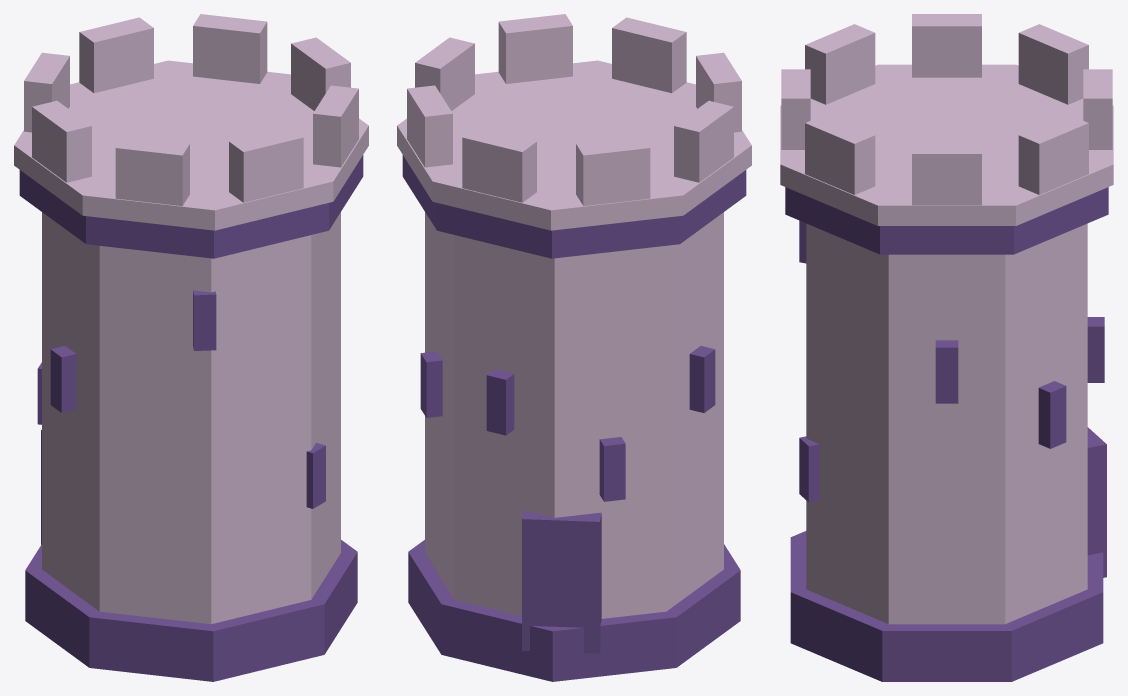
The model's file is tower.glb.
3 renders of one model, left to right at view 1: azimuth 30°, elevation 25°; view 2: azimuth 150°, elevation 25°; view 3: azimuth 270°, elevation 25°, orthographic.
Parts seen in each view (by area): view 1: Keep, Walk, Plinth, Corbel, Merlon7, Merlon0, Merlon3, Merlon4, Merlon6, Merlon1, Merlon2, Merlon5 (+3 smaller); view 2: Keep, Walk, Plinth, Door, Corbel, Merlon5, Merlon0, Merlon1, Merlon4, Merlon6, Merlon3, Merlon2 (+5 smaller); view 3: Keep, Walk, Plinth, Corbel, Merlon2, Merlon1, Merlon3, Merlon6, Merlon5, Merlon7, Door, Merlon0 (+5 smaller).
Boxes of the visible parts, x1,y1,x2,y2 form: Keep: [42, 212, 340, 624]; Walk: [14, 60, 368, 230]; Plinth: [25, 540, 357, 681]; Corbel: [19, 155, 363, 258]; Merlon7: [115, 136, 189, 206]; Merlon0: [229, 127, 303, 202]; Merlon3: [193, 14, 267, 83]; Merlon4: [79, 17, 153, 93]; Merlon6: [32, 100, 91, 182]; Merlon1: [313, 85, 358, 167]; Merlon2: [291, 37, 350, 110]; Merlon5: [24, 52, 69, 132]; Keep: [425, 212, 723, 618]; Walk: [397, 60, 751, 230]; Plinth: [408, 540, 740, 681]; Door: [522, 510, 601, 653]; Corbel: [402, 155, 746, 258]; Merlon5: [576, 136, 650, 206]; Merlon0: [612, 17, 686, 93]; Merlon1: [498, 14, 572, 83]; Merlon4: [462, 127, 536, 202]; Merlon6: [674, 100, 733, 182]; Merlon3: [407, 85, 452, 167]; Merlon2: [415, 37, 474, 110]; Keep: [806, 223, 1087, 624]; Walk: [780, 64, 1113, 225]; Plinth: [790, 531, 1103, 681]; Corbel: [785, 187, 1108, 254]; Merlon2: [912, 141, 981, 205]; Merlon1: [805, 114, 875, 194]; Merlon3: [1018, 114, 1088, 194]; Merlon6: [912, 14, 981, 77]; Merlon5: [1018, 24, 1088, 104]; Merlon7: [805, 24, 875, 104]; Door: [1087, 427, 1106, 577]; Merlon0: [781, 69, 810, 149].
Size of the model in its own units: 2.96 by 5.2 by 2.96.
